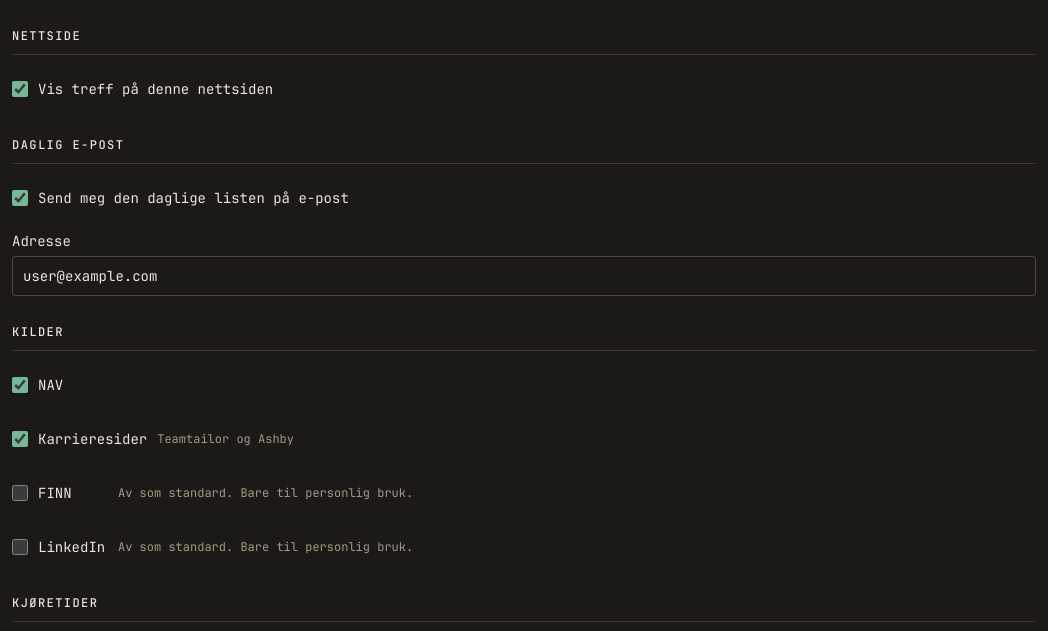
Test: settings in bokmål › should show delivery and its warnings without English text
Click the checkbox labelled "Vis treff på denne nettsiden" at (20, 89), box [12, 81, 28, 97]
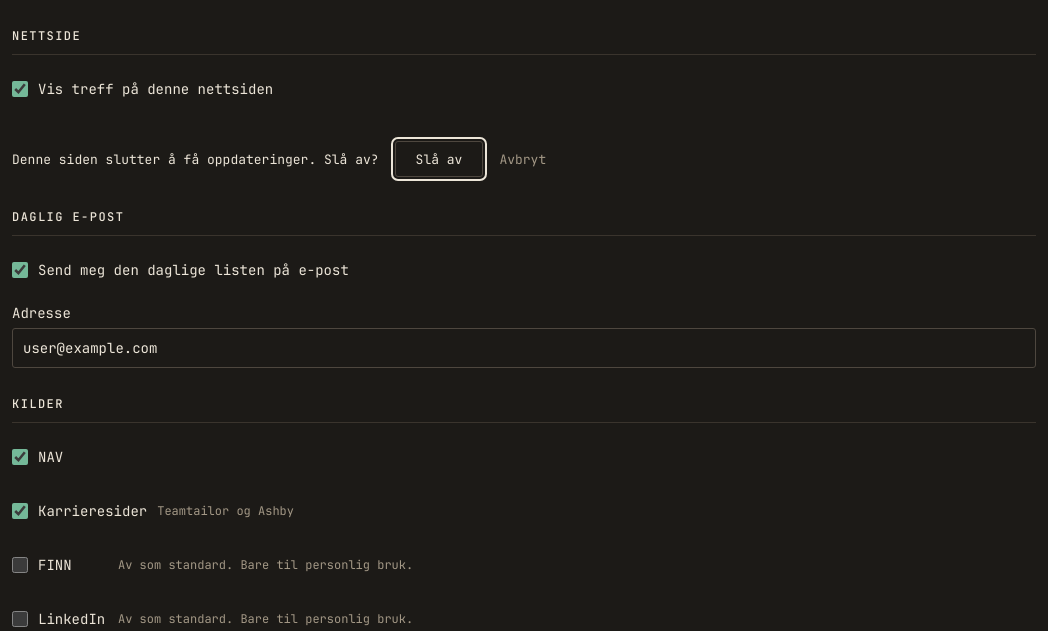
Expected: the element "Denne siden slutter å få oppdateringer. Slå av?" is shown, [12, 137, 546, 181]
